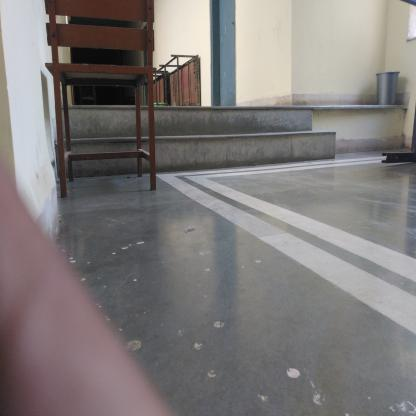stairs: (157, 105, 314, 165)
